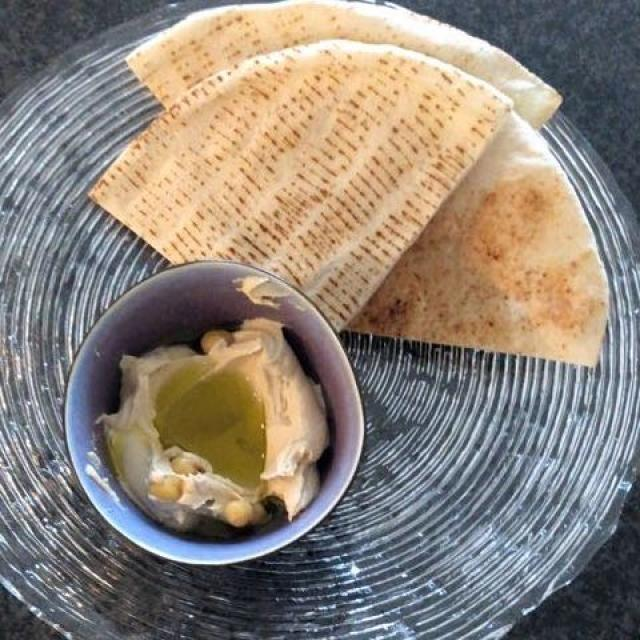bread: (97, 15, 601, 361)
hummus: (101, 321, 325, 533)
